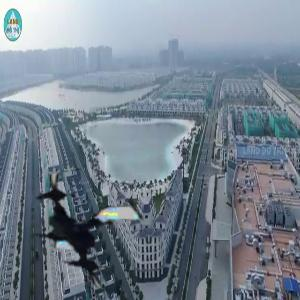drone: (26, 164, 161, 299)
